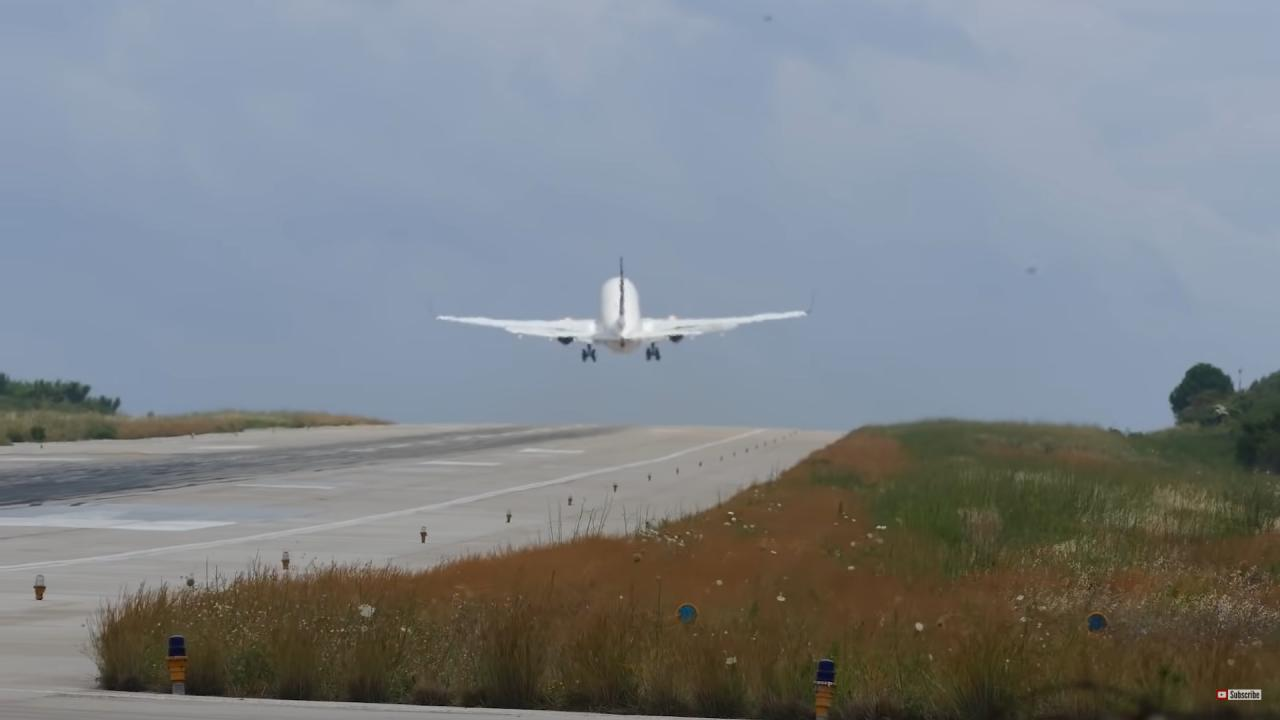Airplane: (421, 245, 821, 374)
